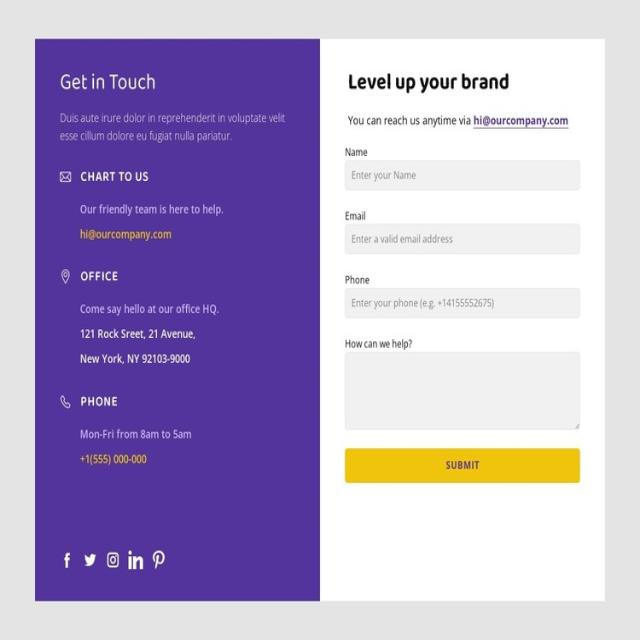buttons: (347, 448, 580, 483), (127, 550, 145, 571), (152, 552, 166, 569), (84, 553, 96, 569), (61, 552, 72, 569), (108, 552, 119, 569)
input-fields: (346, 344, 580, 432), (347, 225, 580, 256), (347, 288, 580, 318), (345, 161, 582, 190)
links: (473, 112, 570, 130), (80, 230, 173, 242)
text: (78, 304, 220, 366), (59, 110, 291, 143), (348, 72, 509, 90), (349, 114, 472, 130), (60, 74, 156, 92), (81, 205, 223, 217), (82, 429, 196, 442), (80, 171, 154, 184), (82, 272, 120, 282)
